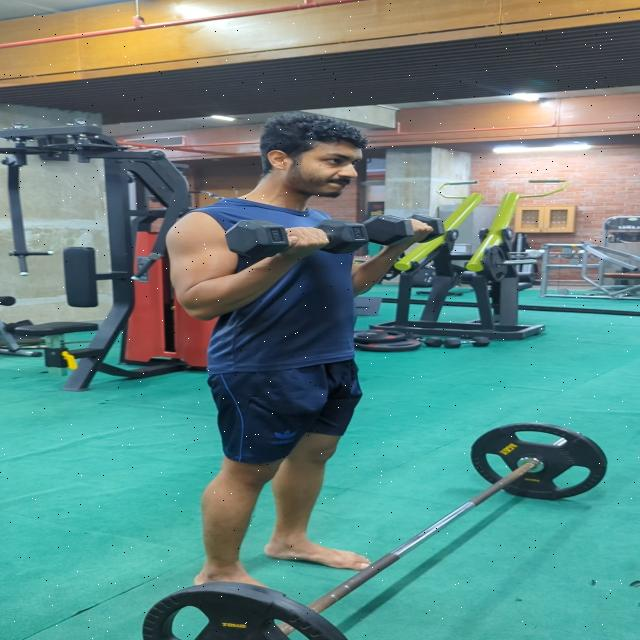Normal_DumbbellBicepCurls: (163, 109, 440, 595)
